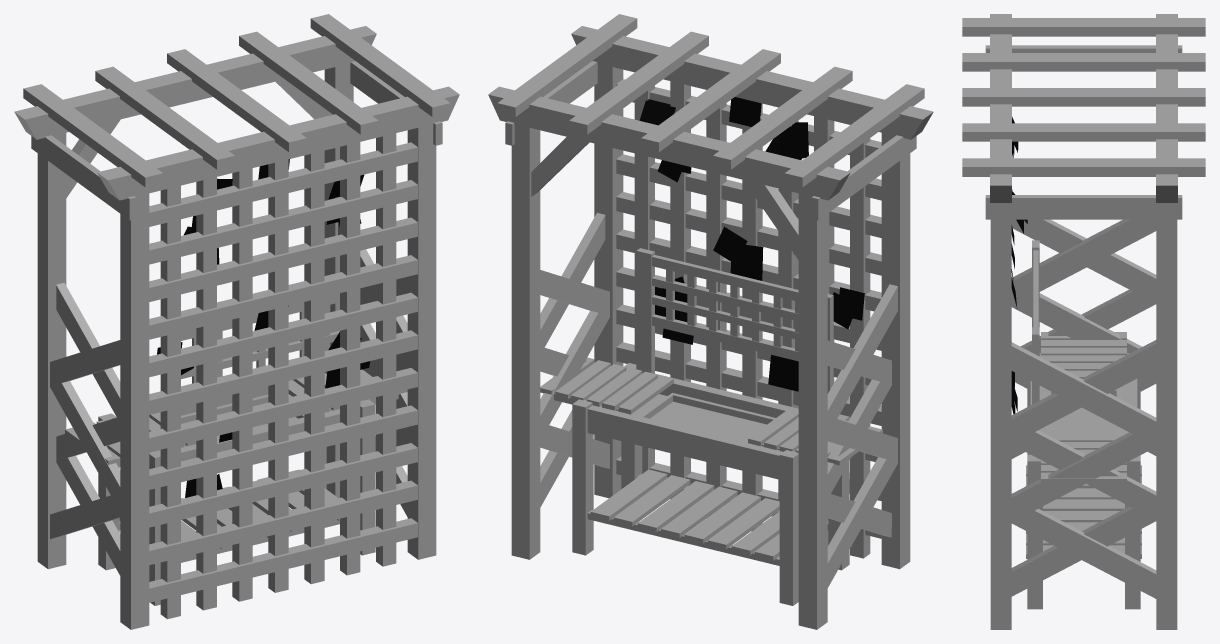
Rendered from FBX_Garden_Decor_01.fbx.
3 renders of one model, left to right at view 1: azimuth 30°, elevation 25°; view 2: azimuth 150°, elevation 25°; view 3: azimuth 270°, elevation 25°, orthographic.
Visible parts, largest first — view 1: MESH_WoodArc, MESH_FlowerTable, MESH_WoodLeaves; view 2: MESH_WoodArc, MESH_FlowerTable, MESH_WoodLeaves; view 3: MESH_WoodArc, MESH_FlowerTable, MESH_WoodLeaves.
Part boxes in pixels (x1,y1,x2,y2): MESH_WoodArc: (14,14,459,629); MESH_FlowerTable: (65,293,407,605); MESH_WoodLeaves: (157,159,370,497); MESH_WoodArc: (488,14,933,629); MESH_FlowerTable: (540,248,882,605); MESH_WoodLeaves: (639,97,864,391); MESH_WoodArc: (962,14,1205,629); MESH_FlowerTable: (1026,240,1141,609); MESH_WoodLeaves: (1011,117,1027,414).
Bounding box in the file's own units: 490 × 616 × 294.
